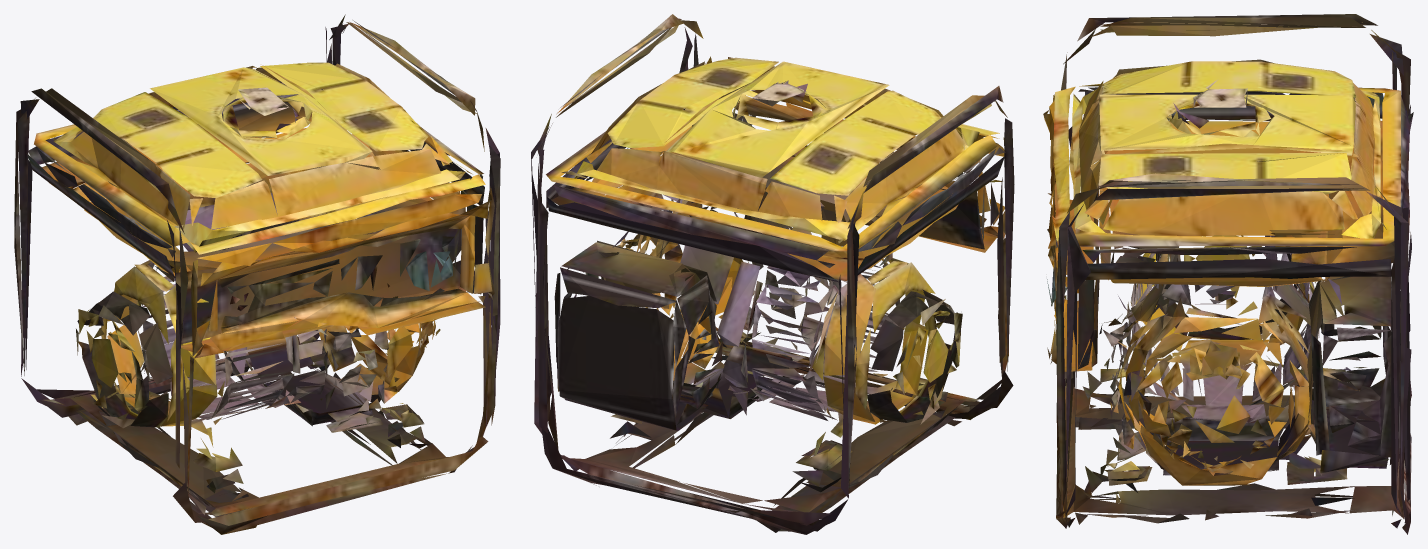
File: generator.glb
3 renders of one model, left to right at view 1: azimuth 30°, elevation 25°; view 2: azimuth 150°, elevation 25°; view 3: azimuth 270°, elevation 25°, orthographic. The views are drawn at different scales.
Visible parts, largest first — view 1: world; view 2: world; view 3: world.
Part boxes in pixels (x1,y1,x2,y2): world: (14, 14, 500, 534); world: (531, 14, 1014, 534); world: (1043, 14, 1413, 534).
Bounding box in the file's own units: 1.91 × 2.01 × 1.76.
1 material, 1 textured.
